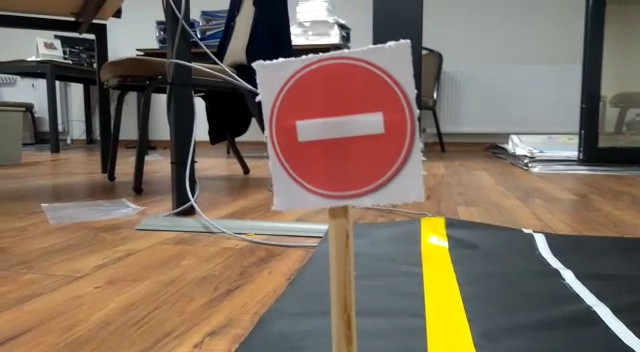girisi_olmayan_yol: (258, 49, 422, 205)
